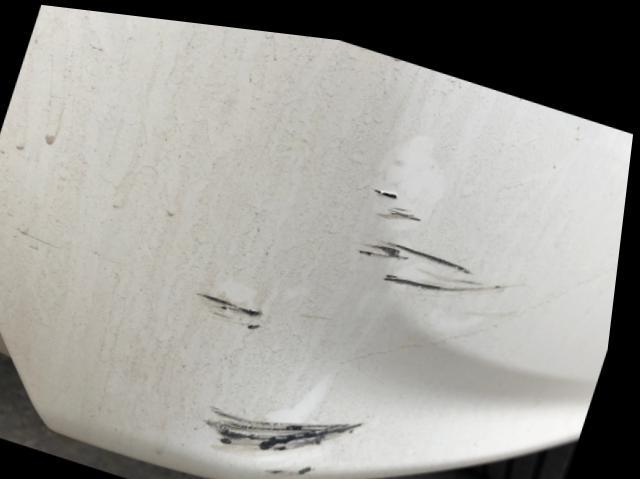scratch: (358, 174, 525, 304), (205, 398, 369, 468), (202, 281, 275, 332)
